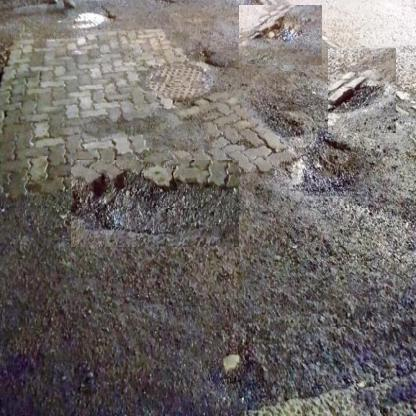damage: (280, 120, 366, 203)
pothole: (70, 160, 239, 248), (327, 48, 396, 134), (238, 5, 322, 66)
